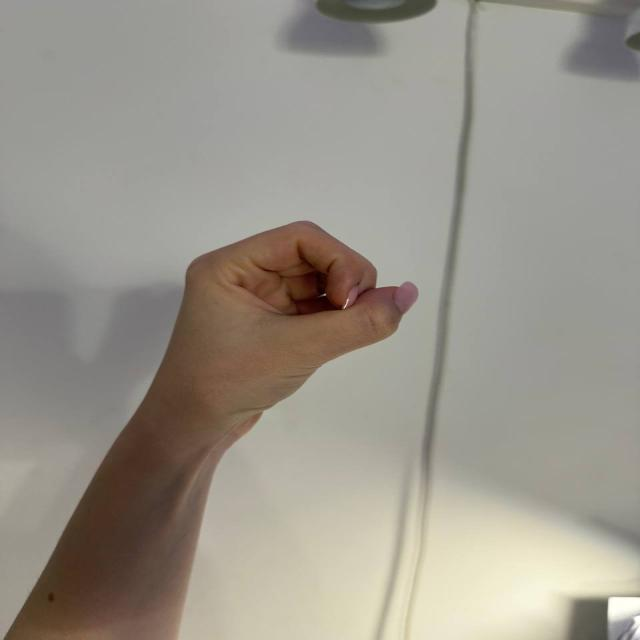e: (144, 192, 418, 413)
